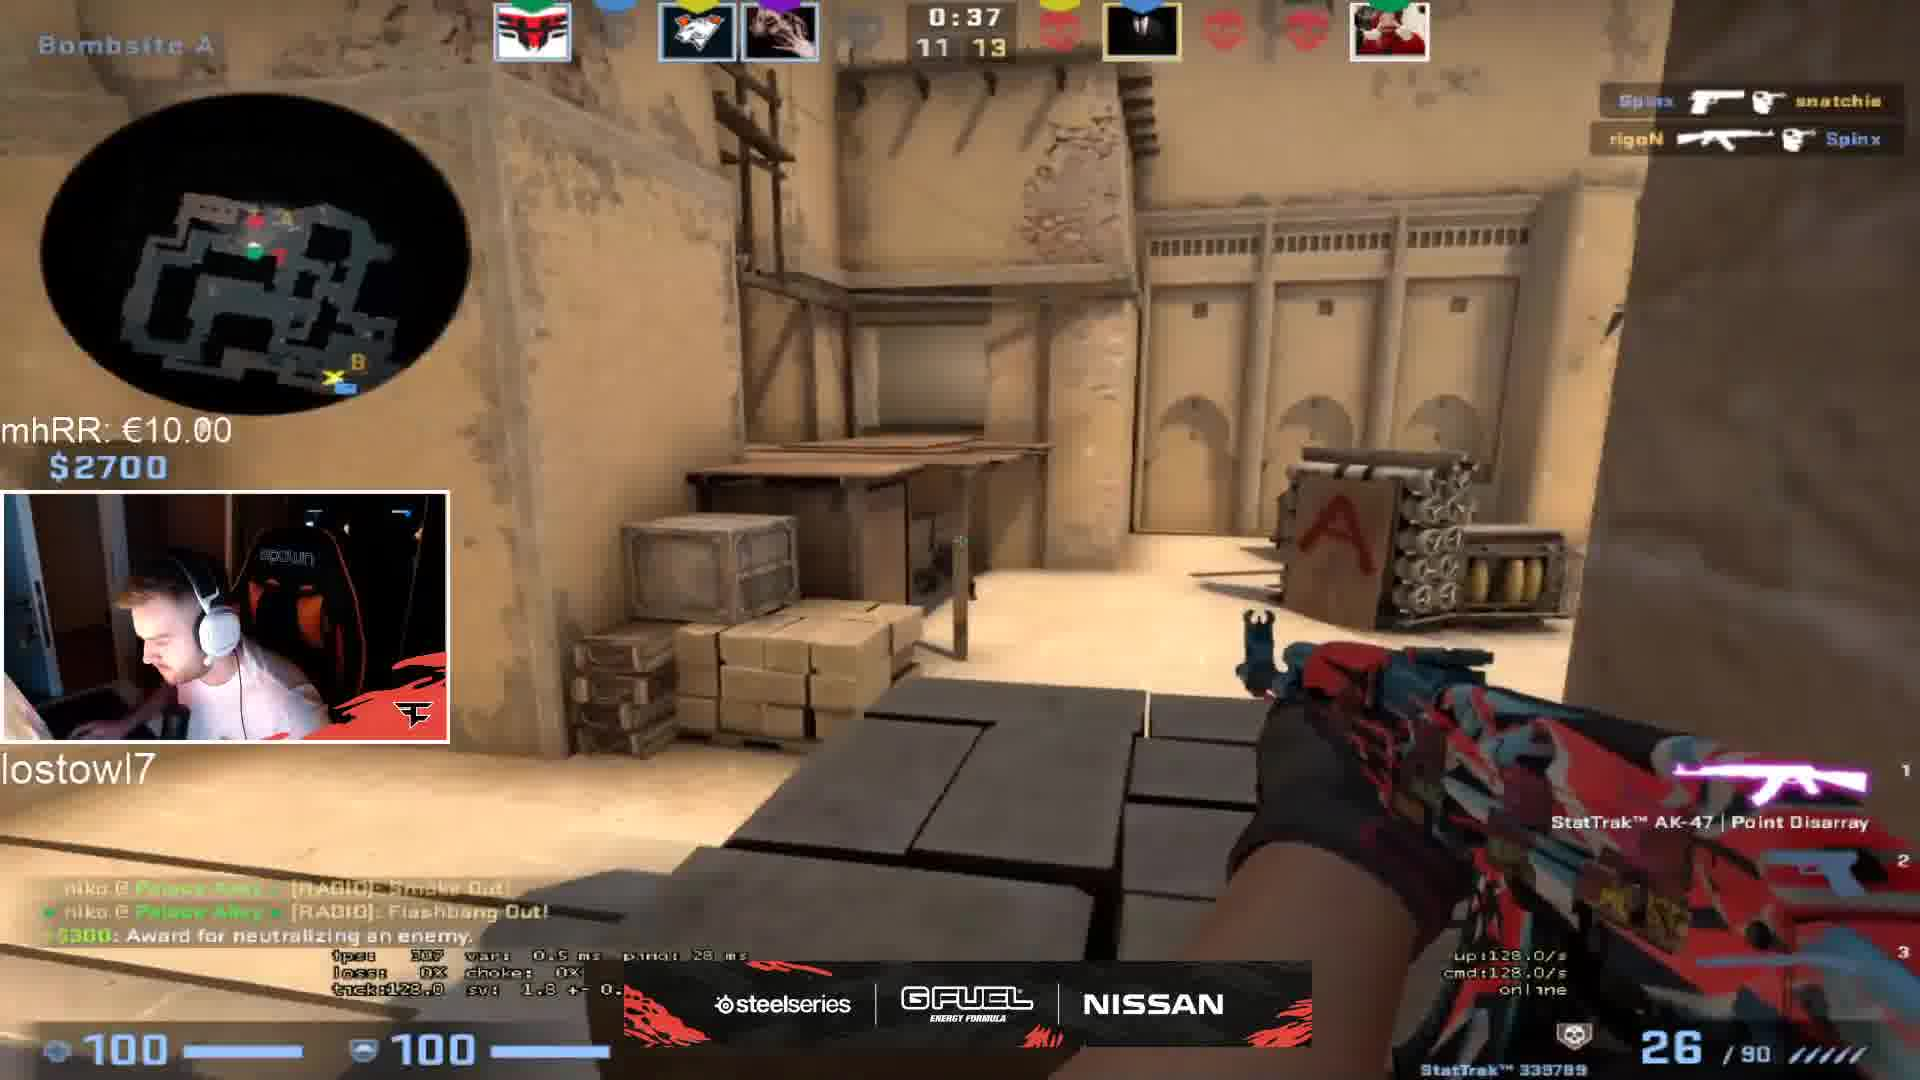enemy: (915, 534, 956, 596)
